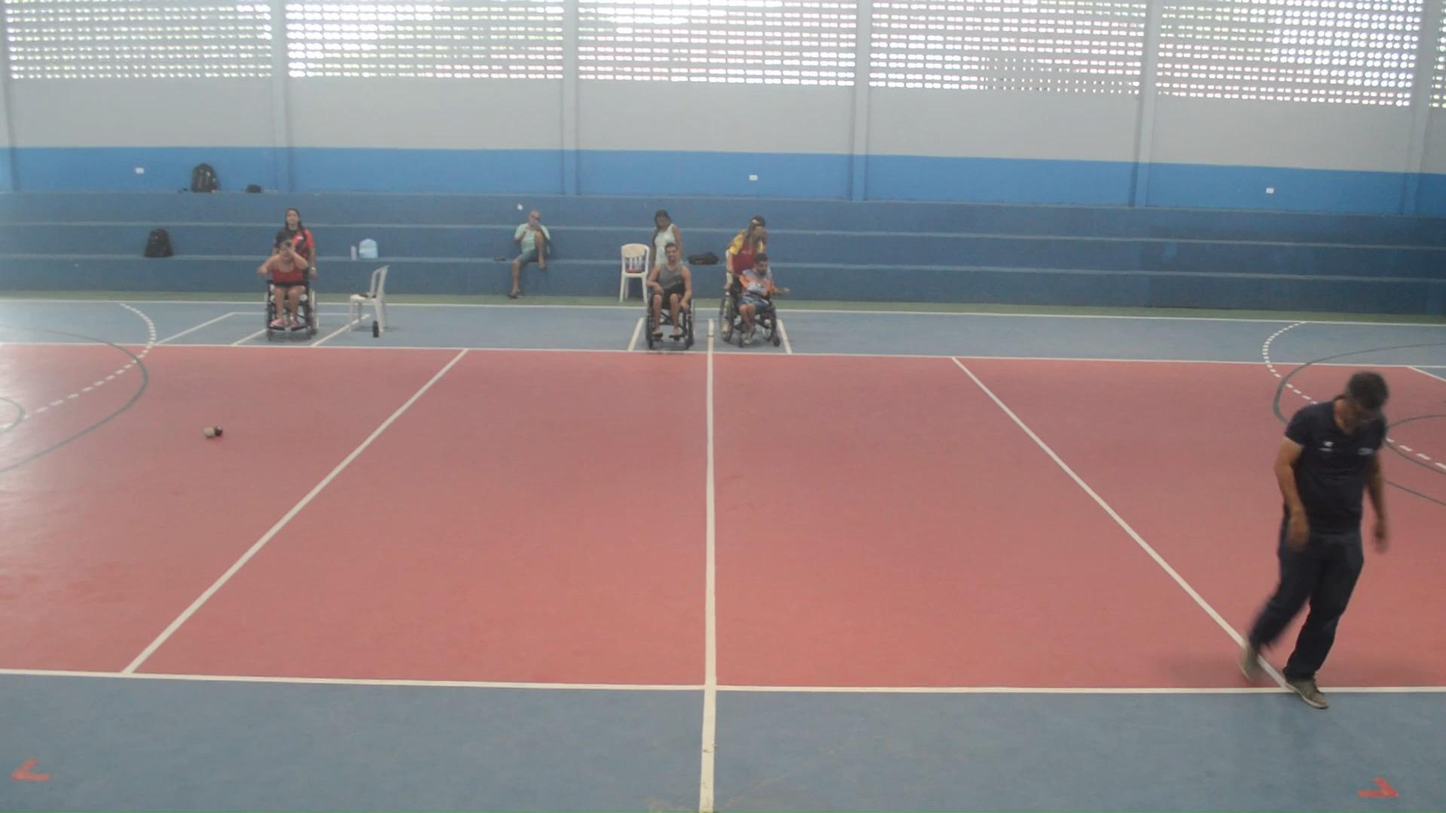red_ball: (214, 425, 223, 436)
white_ball: (203, 427, 215, 438)
